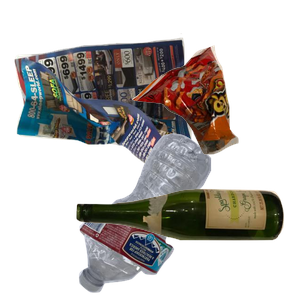glass: (74, 186, 300, 300)
paper: (12, 31, 196, 204)
plastic: (76, 131, 280, 300)
trash: (130, 43, 300, 190)
